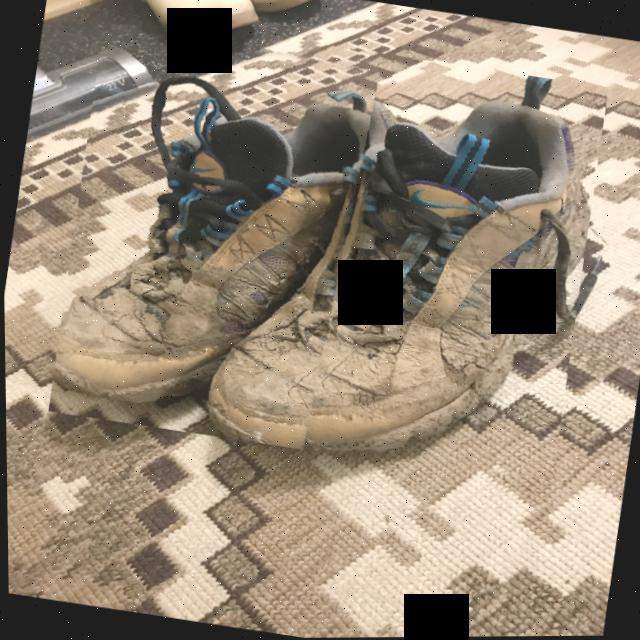shoe: (213, 36, 613, 492), (42, 16, 386, 455)
